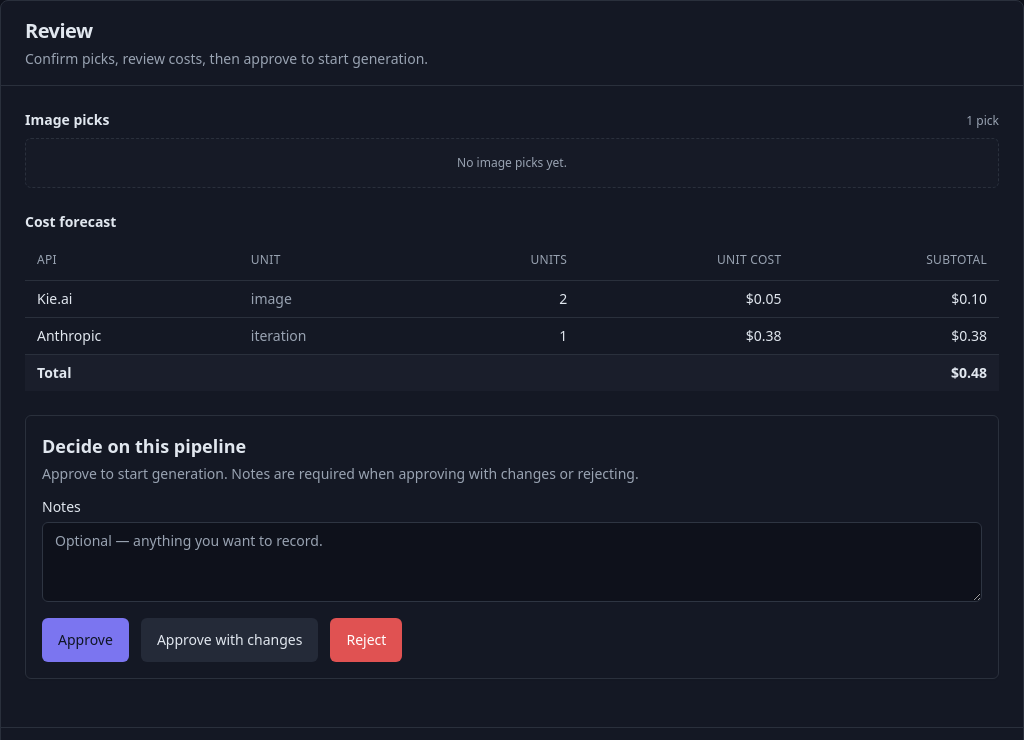
Test: StageReview › approval gate validates notes for rejected
Click the button "Reject" at (366, 640), box [330,618,402,662]
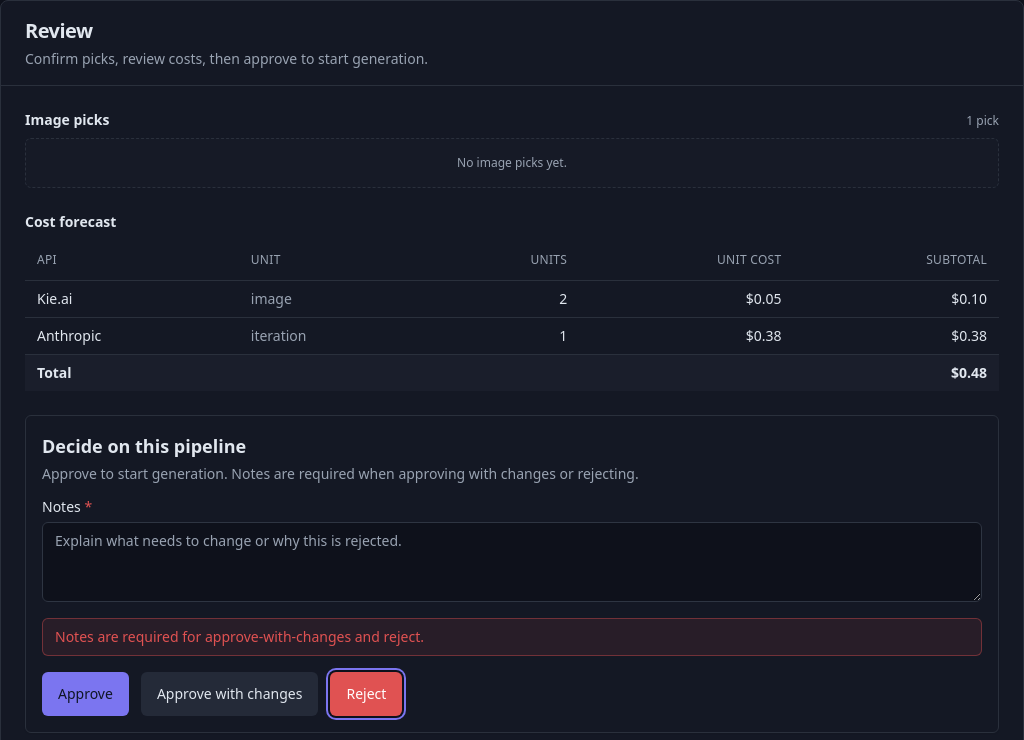
Now the message shows "Notes are required", box [55,626,424,646]
